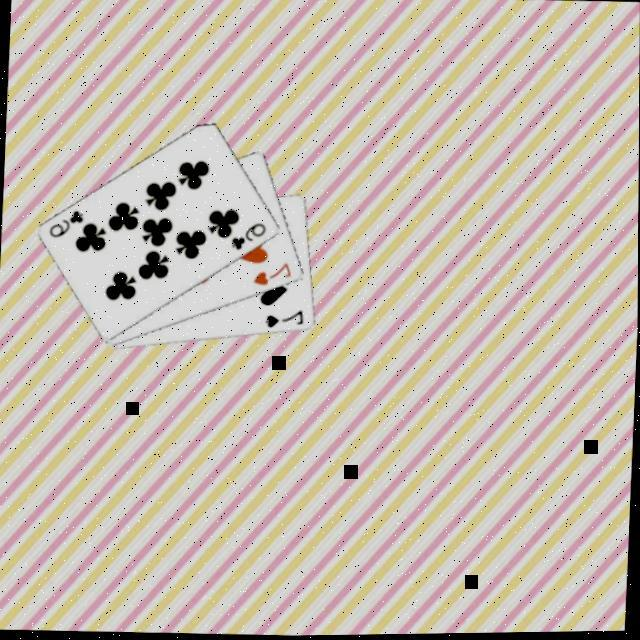7H: (252, 257, 297, 290)
7S: (264, 305, 310, 332)
9C: (230, 218, 272, 253), (48, 204, 89, 239)
